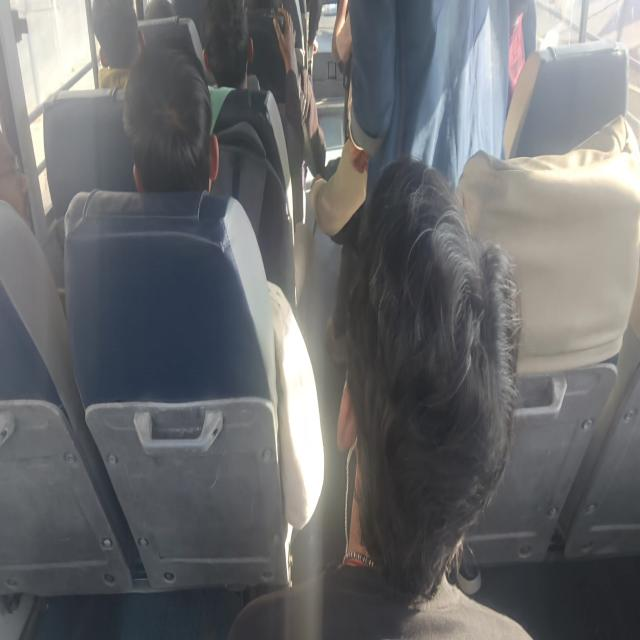person: (318, 193, 521, 597), (346, 0, 536, 193), (127, 59, 211, 197), (0, 114, 57, 248), (197, 0, 259, 111), (84, 0, 144, 53)
